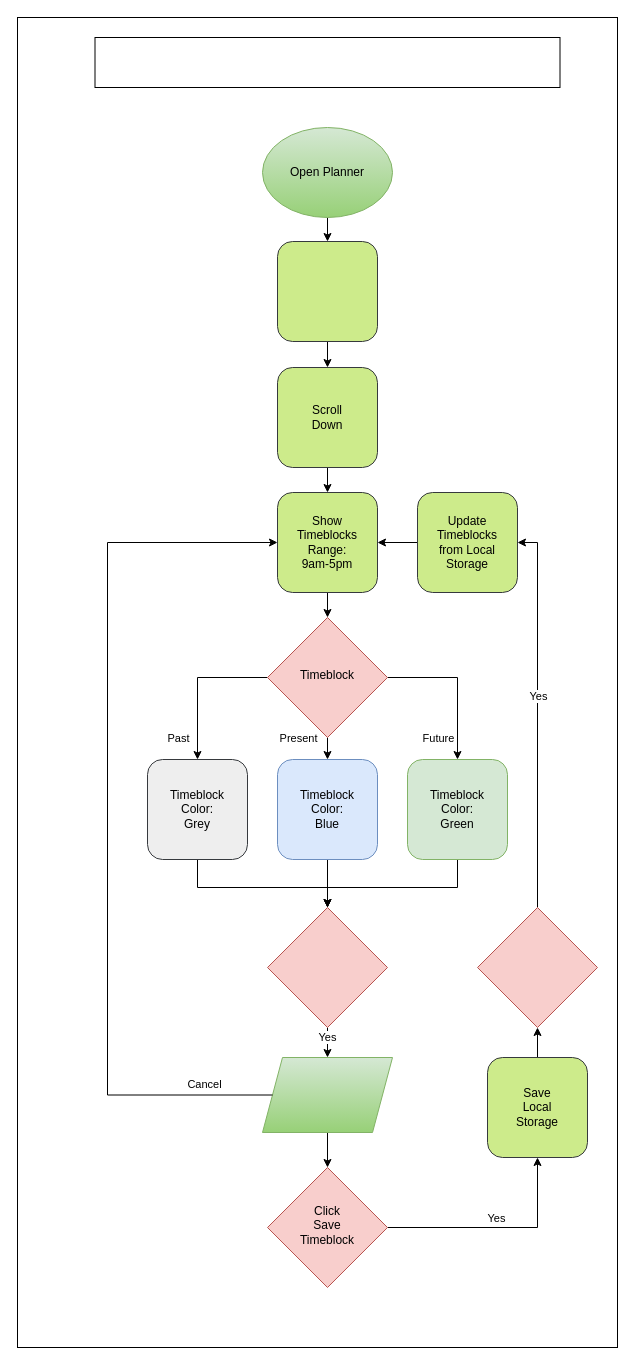
This 635x1365 diagram has some shape labels left out. The shapes that lost their labels are listed below. From the top down, each one's centre as x and y in pixels, then its label:
point 327,62: Work Day Scheduler State Flow Diagram
point 327,291: Display Current Day Top Display
point 327,967: Click Block
point 537,967: Click Refresh Page
point 327,1094: Can Enter Event
